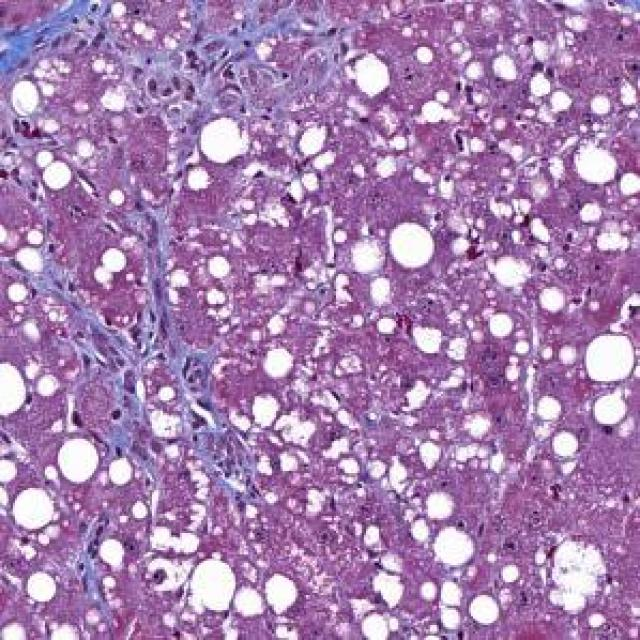fibrosis: (163, 26, 308, 126), (0, 0, 111, 81)
